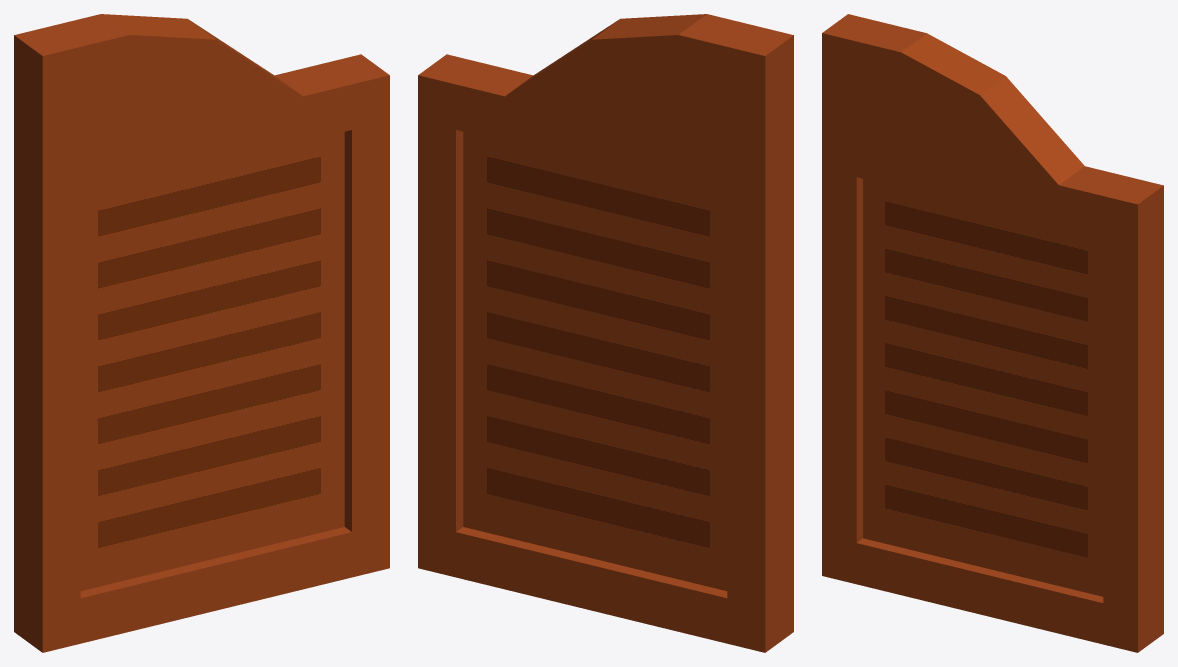
File: door.fbx
3 renders of one model, left to right at view 1: azimuth 30°, elevation 25°; view 2: azimuth 150°, elevation 25°; view 3: azimuth 330°, elevation 25°, orthographic. The views are drawn at different scales.
Parts seen in each view (by area): view 1: door1; view 2: door1; view 3: door1.
Part boxes in pixels (<box>): door1: <box>14,14,389,652</box>; door1: <box>418,14,793,652</box>; door1: <box>822,14,1163,652</box>.
Bounding box in the file's own units: 87.5 × 144 × 12.5.
1 material, 1 textured.
